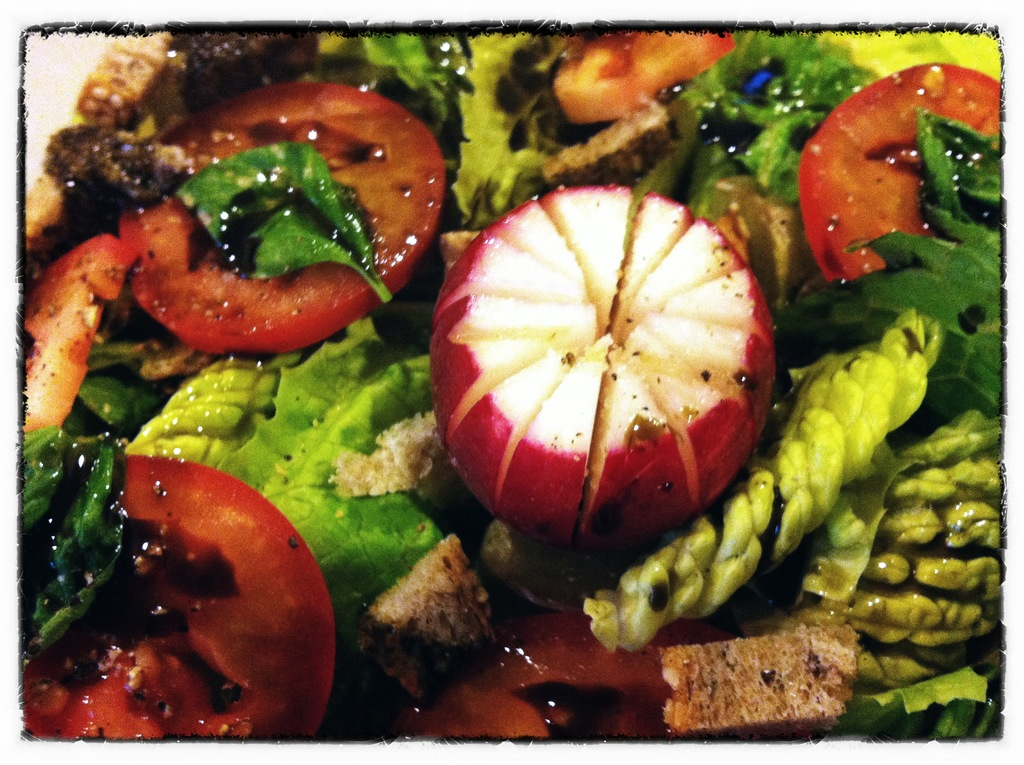salad: (26, 25, 1009, 740)
